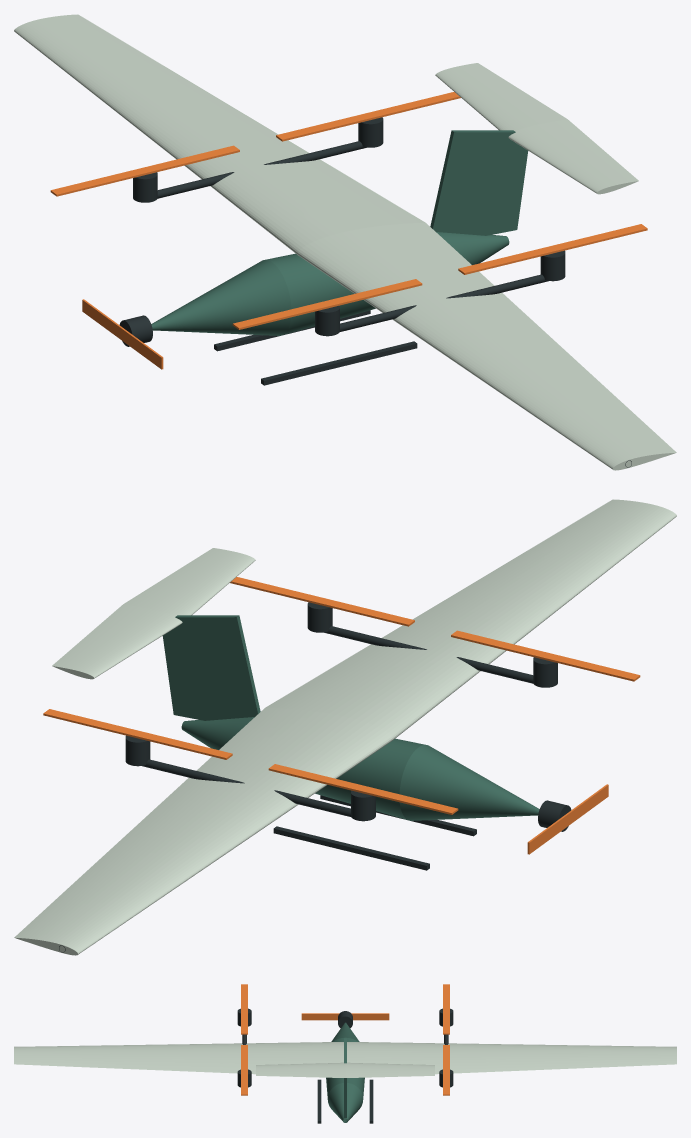
3 renders of one model, top to bottom at view 1: azimuth 30°, elevation 25°; view 2: azimuth 150°, elevation 25°; view 3: azimuth 270°, elevation 25°, orthographic. The views are drawn at different scales.
Parts seen in each view (by area): view 1: wing-1, wing1, fuselage, fin, tail-1, tail1, prop_-1_200.0, prop_1_200.0, prop_-1_700.0, prop_1_700.0, boom-1, boom1 (+6 smaller); view 2: wing1, wing-1, fuselage, fin, tail1, tail-1, prop_1_200.0, prop_-1_200.0, prop_1_700.0, prop_-1_700.0, boom-1, boom1 (+6 smaller); view 3: wing-1, wing1, fuselage, tail-1, tail1, cruise_prop, prop_-1_200.0, prop_-1_700.0, prop_1_200.0, prop_1_700.0.
Part boxes in pixels (x1,y1,x2,y2): wing-1: (297, 222, 676, 470); wing1: (14, 14, 424, 254); fuselage: (151, 232, 509, 335); fin: (430, 130, 528, 235); tail-1: (508, 119, 638, 194); tail1: (435, 63, 567, 130); prop_-1_200.0: (232, 279, 422, 329); prop_1_200.0: (50, 145, 239, 196); prop_-1_700.0: (458, 224, 647, 274); prop_1_700.0: (276, 92, 460, 141); boom-1: (340, 274, 548, 331); boom1: (157, 141, 366, 198); wing1: (14, 707, 393, 955); wing-1: (266, 499, 676, 739); fuselage: (181, 717, 539, 820); fin: (162, 615, 260, 720); tail1: (52, 604, 182, 679); tail-1: (123, 548, 255, 615); prop_1_200.0: (268, 764, 458, 814); prop_-1_200.0: (451, 630, 640, 681); prop_1_700.0: (43, 709, 232, 759); prop_-1_700.0: (230, 577, 414, 626); boom-1: (324, 626, 533, 683); boom1: (142, 759, 350, 816); wing-1: (14, 1042, 343, 1074); wing1: (347, 1042, 676, 1074); fuselage: (326, 1022, 364, 1122); tail-1: (256, 1062, 345, 1077); tail1: (345, 1062, 434, 1077); cruise_prop: (301, 1013, 389, 1020); prop_-1_200.0: (241, 984, 247, 1034); prop_-1_700.0: (241, 1045, 247, 1095); prop_1_200.0: (443, 984, 449, 1034); prop_1_700.0: (443, 1045, 449, 1095).
Size of the model in its own units: 989 by 390 by 2300.
